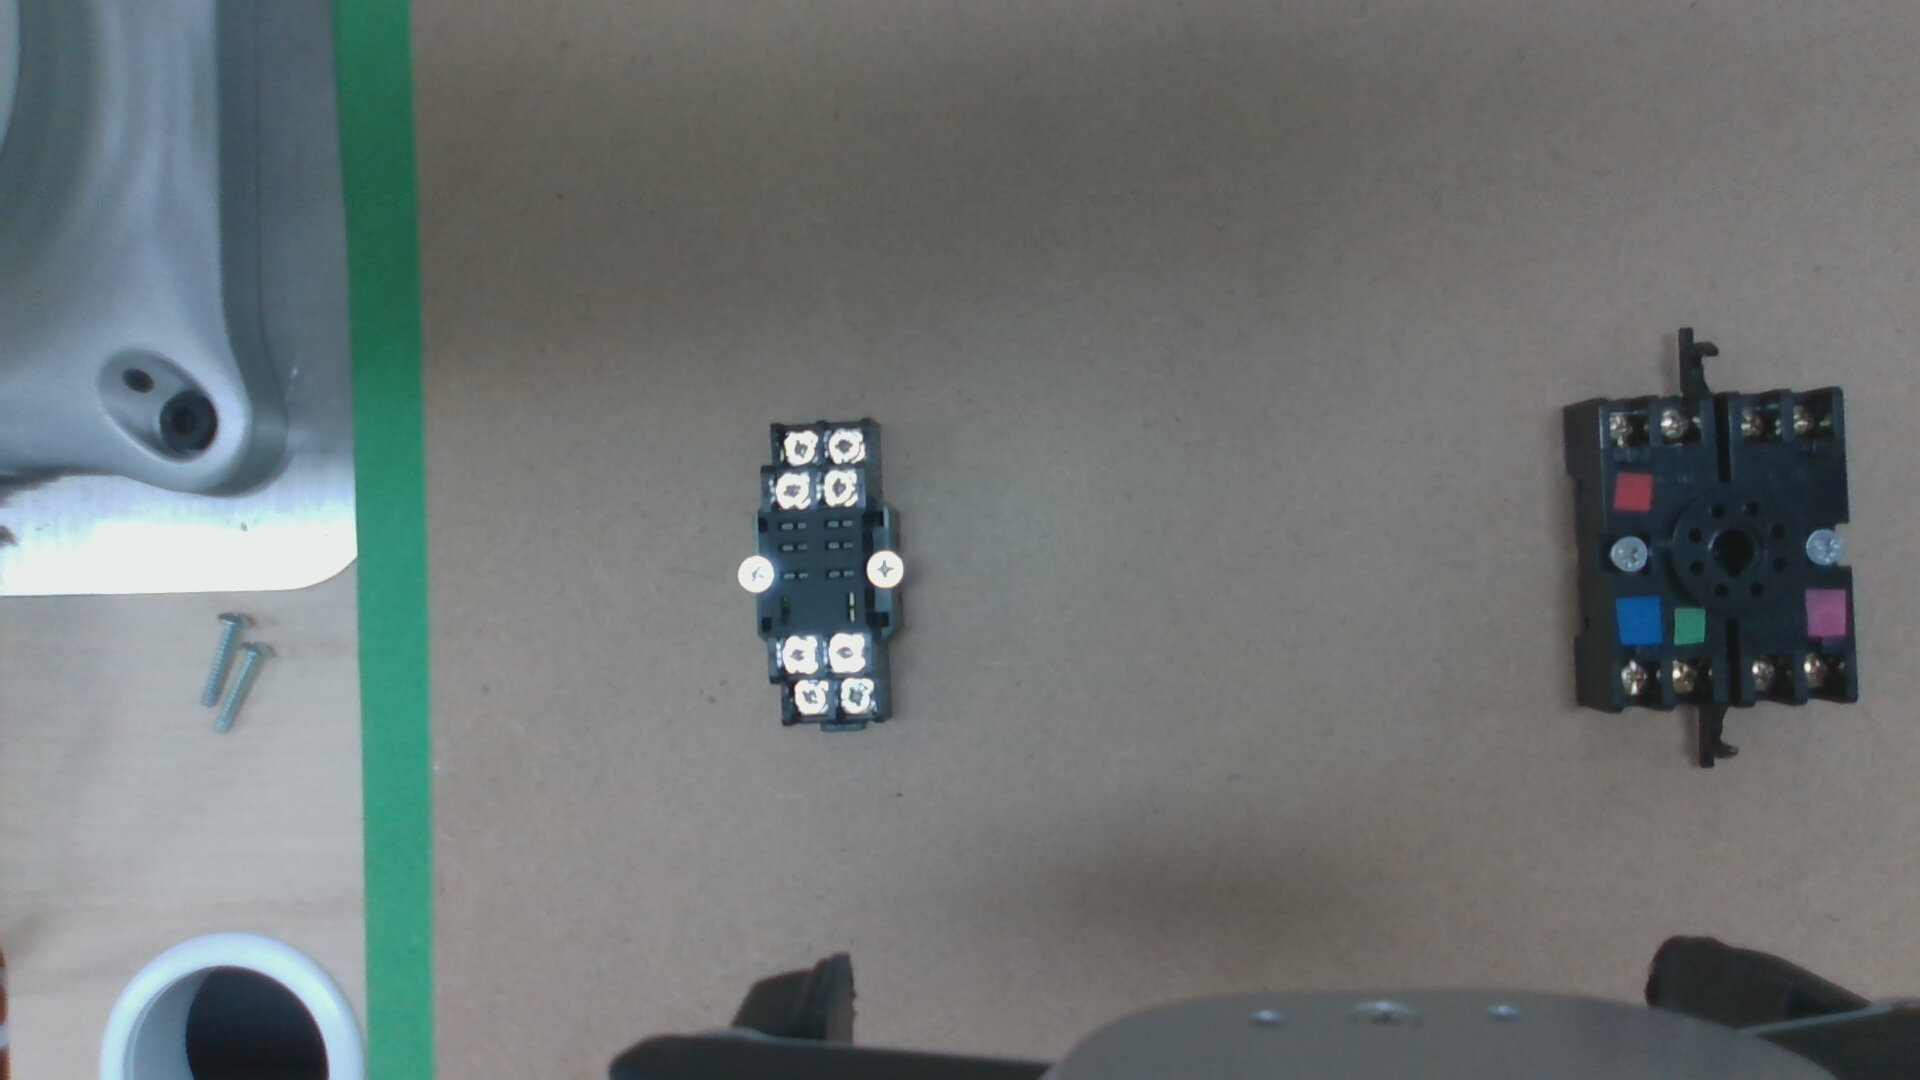relay 3: (828, 433, 861, 462)
relay 4: (779, 436, 815, 462)
relay 5: (837, 683, 872, 711)
relay 6: (793, 683, 825, 711)
relay 7: (829, 636, 862, 669)
relay 8: (781, 640, 814, 670)
